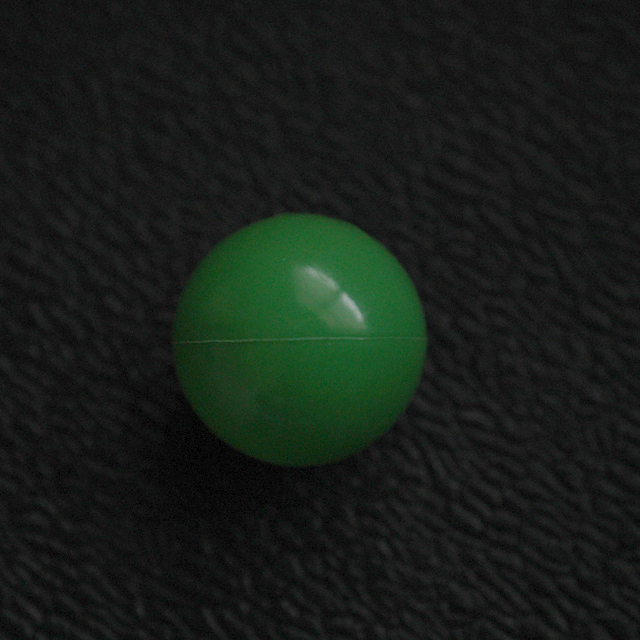Ball: (168, 214, 429, 464)
